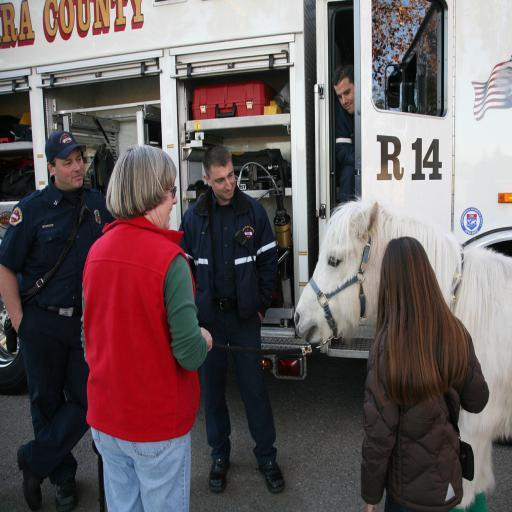horse: (293, 192, 512, 512)
